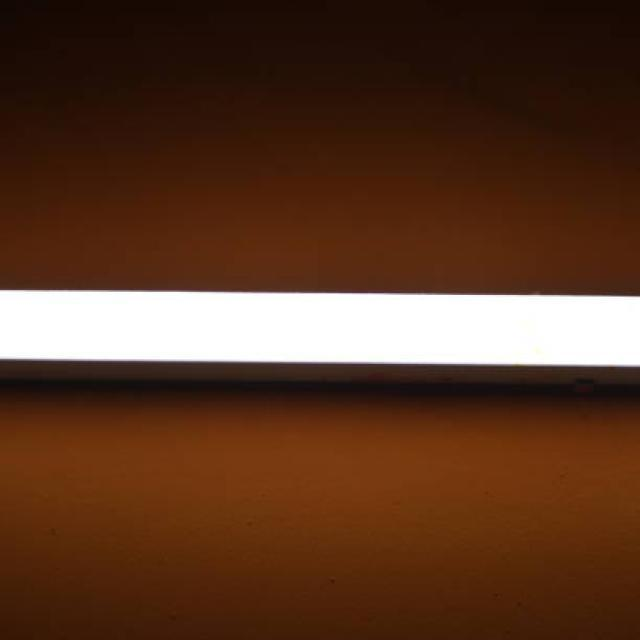tubelight_on: (0, 282, 640, 402)
